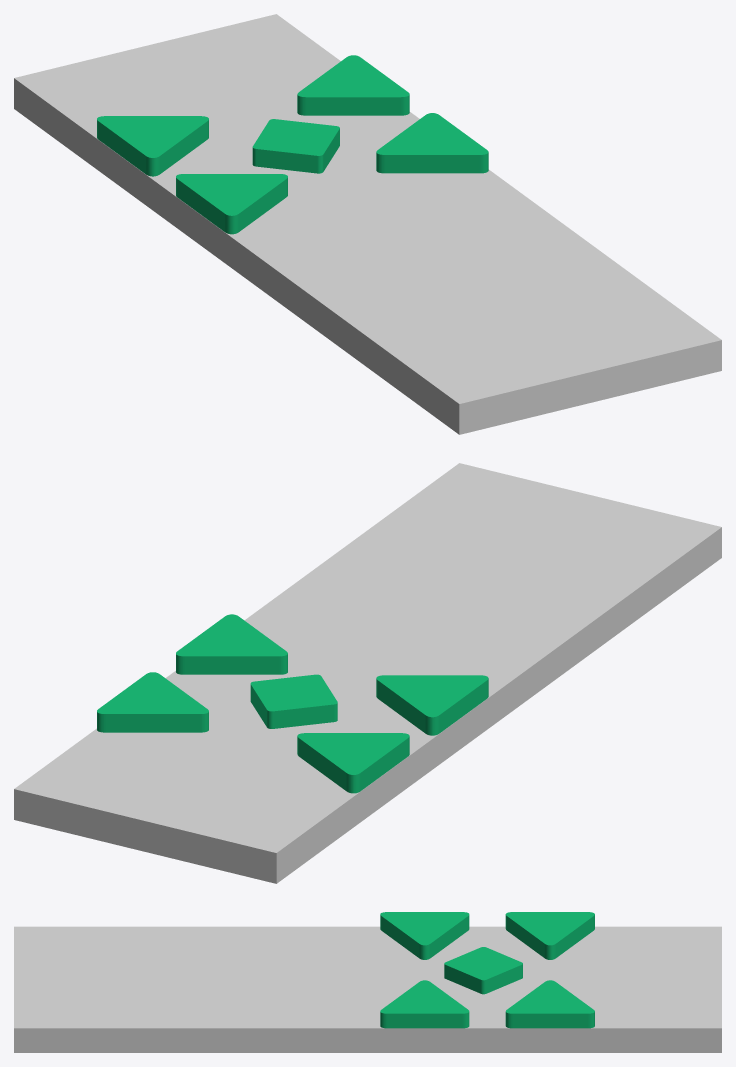
Rendered from triangles.fbx.
3 renders of one model, top to bottom at view 1: azimuth 30°, elevation 25°; view 2: azimuth 150°, elevation 25°; view 3: azimuth 270°, elevation 25°, orthographic. The views are drawn at different scales.
Visible parts, largest first — view 1: Cube.002, Circle.002, Circle.001, Circle.003, Circle.004, Cube.009; view 2: Cube.002, Circle.004, Circle.001, Circle.003, Circle.002, Cube.009; view 3: Cube.002, Circle.002, Circle.001, Circle.004, Circle.003, Cube.009.
Part boxes in pixels (x1,y1,x2,y2): Cube.002: (14,14,721,434); Circle.002: (376,113,488,173); Circle.001: (297,55,409,115); Circle.003: (97,116,208,176); Circle.004: (176,174,287,234); Cube.009: (252,119,339,173); Cube.002: (14,463,721,883); Circle.004: (376,675,488,735); Circle.001: (97,672,208,732); Circle.003: (297,733,409,793); Circle.002: (176,614,287,674); Cube.009: (250,674,337,728); Cube.002: (14,926,721,1052); Circle.002: (380,980,469,1028); Circle.001: (505,980,594,1028); Circle.004: (380,912,469,959); Circle.003: (505,912,594,959); Cube.009: (444,947,522,994).
Bounding box in the file's own units: 830 × 149 × 2438.
